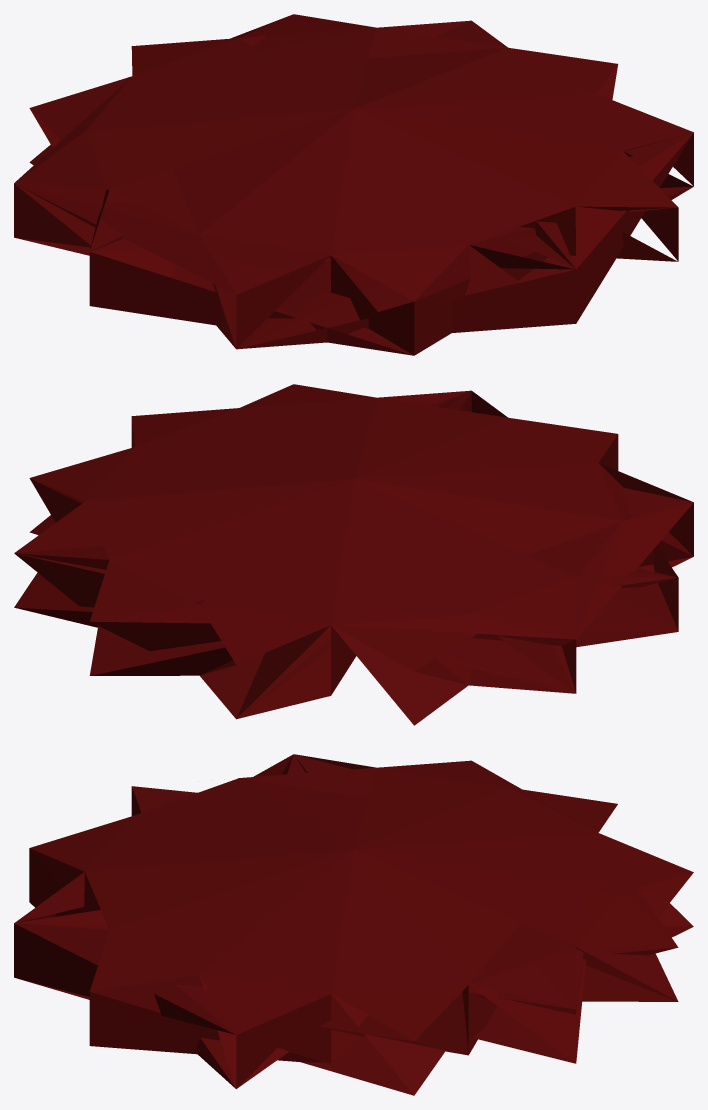
File: S.S._Dolphin_Gluon_Drive_cog_6.obj
The picture shows the model from 3 angles, top to bottom: view 1: azimuth 30°, elevation 25°; view 2: azimuth 150°, elevation 25°; view 3: azimuth 270°, elevation 25°; orthographic projection.
Parts seen in each view (by area): view 1: S.S._Dolphin_Gluon_Drive_cog_6; view 2: S.S._Dolphin_Gluon_Drive_cog_6; view 3: S.S._Dolphin_Gluon_Drive_cog_6.
Part boxes in pixels (x1,y1,x2,y2): S.S._Dolphin_Gluon_Drive_cog_6: (14, 14, 693, 355); S.S._Dolphin_Gluon_Drive_cog_6: (14, 384, 693, 725); S.S._Dolphin_Gluon_Drive_cog_6: (14, 754, 693, 1095).
Size of the model in its own units: 2.28 by 0.3822 by 2.28.
